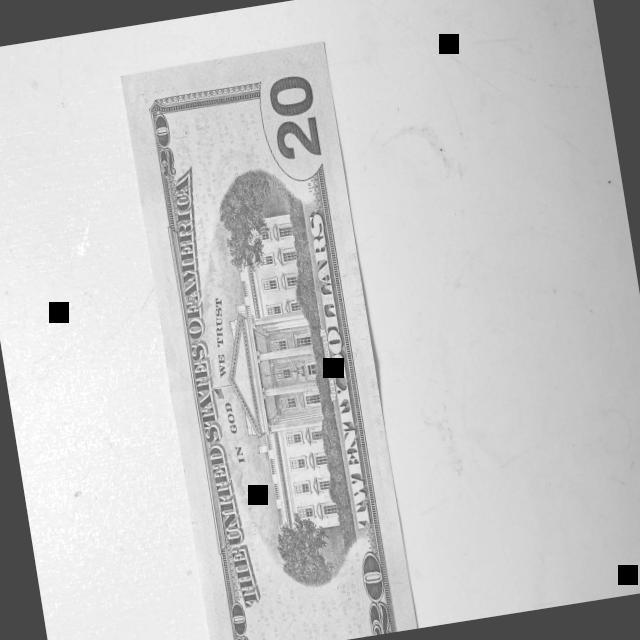twenty: (116, 41, 418, 640)
